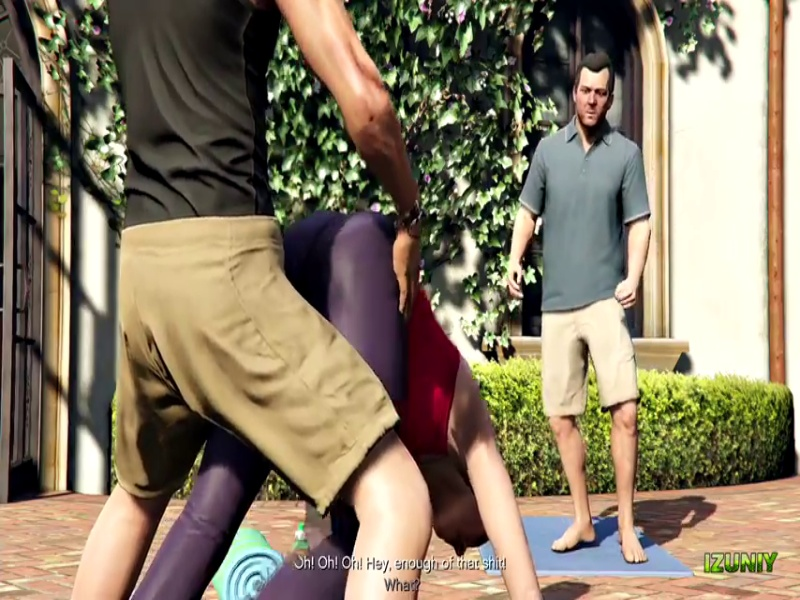human: (526, 14, 655, 572)
